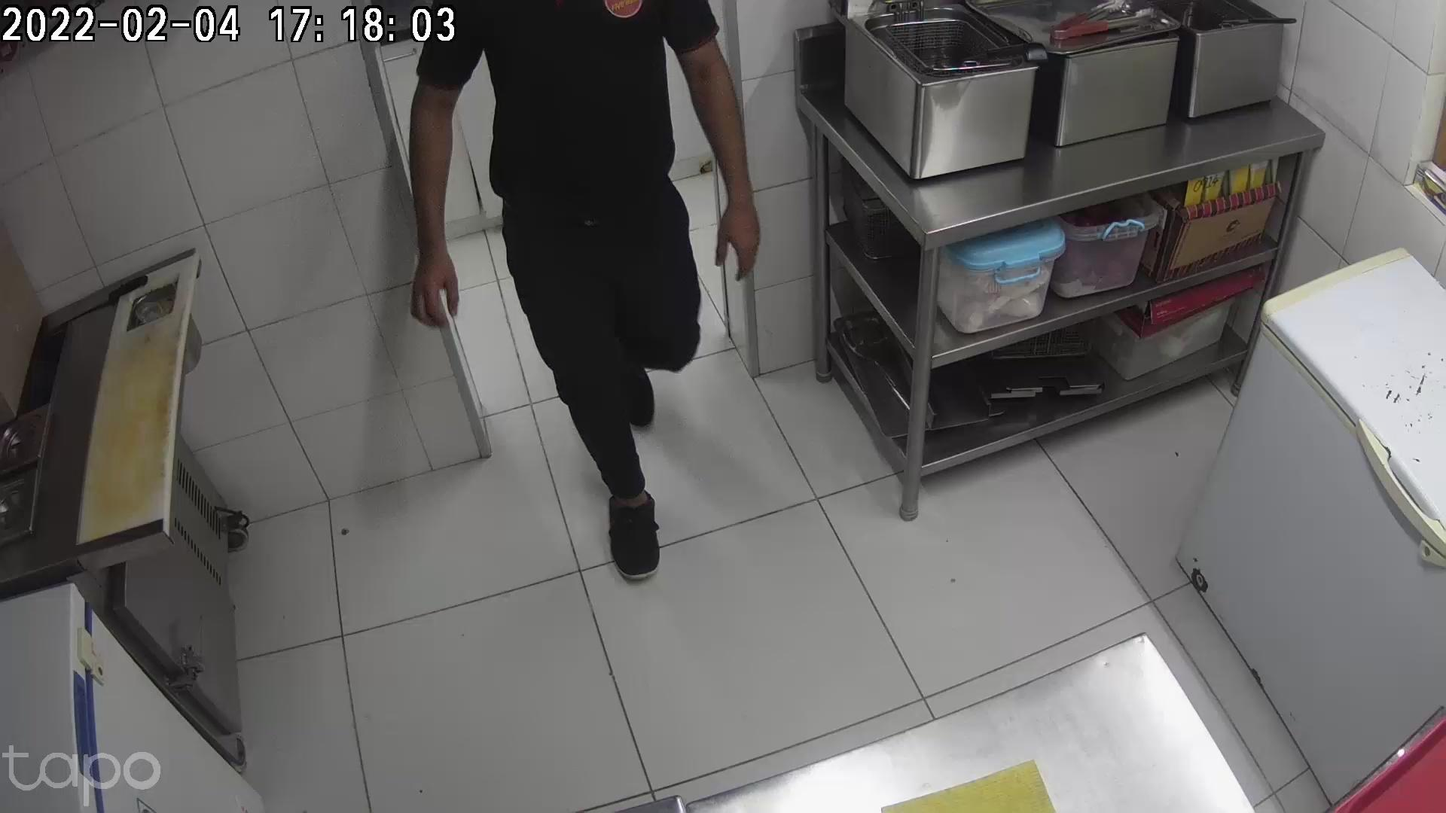no_gloves: (411, 212, 464, 329), (719, 155, 760, 287)
